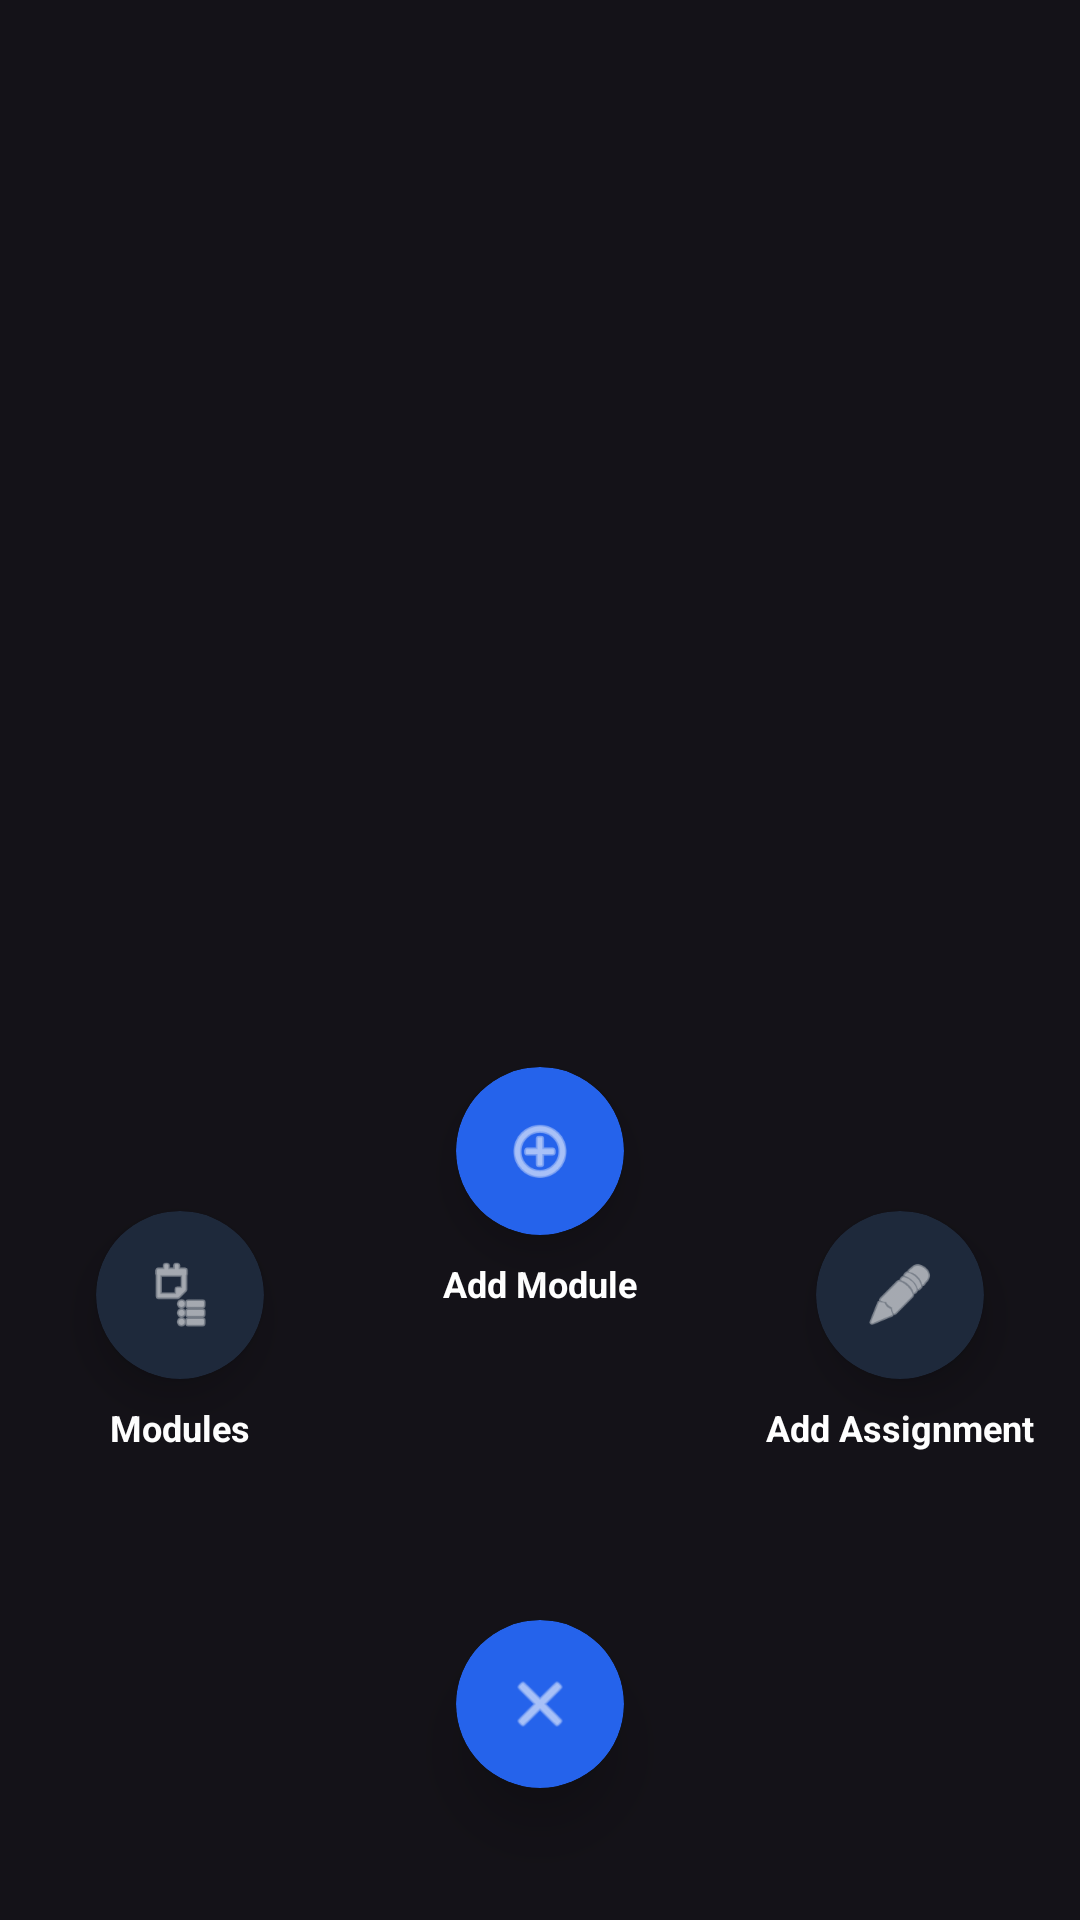

Where to tap for icons on this 1080*1920 app screen, as [x,y]:
agenda: [180,1295]
close clear cancel: [540,1704]
edit: [899,1294]
